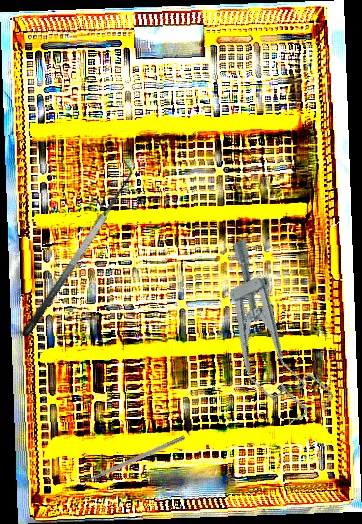Hook Surgical: (71, 434, 186, 490)
Spatula Surgical: (6, 158, 144, 340)
Speculum: (195, 232, 338, 434)
